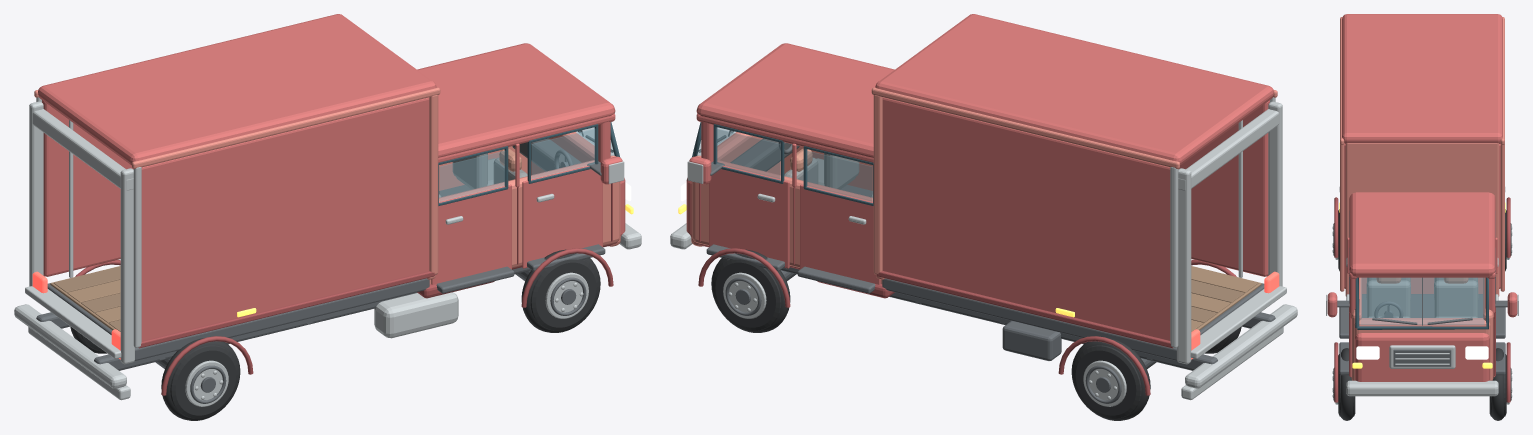
File: truck.fbx
3 renders of one model, left to right at view 1: azimuth 30°, elevation 25°; view 2: azimuth 150°, elevation 25°; view 3: azimuth 270°, elevation 25°, orthographic. The views are drawn at different scales.
Visible parts, largest first — view 1: Cargo_Right_OuterPanel, Cargo_Roof, Cab_Roof, Cargo_Left_OuterPanel, Cab_Right_Front_DoorSurface, Cab_Right_Rear_DoorSurface, Cargo_Floor_Structural, Fuel_Tank, Rear_Right_FramePost, Cab_Right_LowerSideShell, Cargo_R_TopTrim, Rear_Left_FramePost (+27 smaller); view 2: Cargo_Left_OuterPanel, Cargo_Roof, Cab_Roof, Cargo_Right_OuterPanel, Cab_Left_Front_DoorSurface, Cab_Left_Rear_DoorSurface, Cargo_Floor_Structural, Rear_Left_FramePost, Cab_Left_LowerSideShell, Cargo_L_TopTrim, Rear_Right_FramePost, Tire_Rear_Left (+27 smaller); view 3: Cargo_Roof, Cab_Roof, Cargo_Bulkhead_Front, Windshield_TransparentGlass, Cab_FrontNose, Front_Bumper, Cab_FrontLowerShell, Seat_Front_Left_Backrest, Seat_Front_Right_Backrest, Front_Grille_Centre, Windshield_RubberSurround_FRAME, Cab_Interior_Floor (+27 smaller).
Part boxes in pixels (left/top/right/bottom): Cargo_Right_OuterPanel: left=133, top=97, right=429, bottom=340; Cargo_Roof: left=38, top=14, right=436, bottom=165; Cab_Roof: left=417, top=43, right=615, bottom=157; Cargo_Left_OuterPanel: left=42, top=100, right=132, bottom=276; Cab_Right_Front_DoorSurface: left=522, top=165, right=602, bottom=268; Cab_Right_Rear_DoorSurface: left=431, top=184, right=511, bottom=284; Cargo_Floor_Structural: left=47, top=278, right=429, bottom=360; Fuel_Tank: left=374, top=292, right=458, bottom=338; Rear_Right_FramePost: left=120, top=168, right=134, bottom=364; Cab_Right_LowerSideShell: left=429, top=155, right=619, bottom=283; Cargo_R_TopTrim: left=132, top=87, right=440, bottom=168; Rear_Left_FramePost: left=29, top=101, right=43, bottom=286; Cargo_Left_OuterPanel: left=882, top=97, right=1178, bottom=340; Cargo_Roof: left=875, top=14, right=1273, bottom=165; Cab_Roof: left=696, top=43, right=894, bottom=157; Cargo_Right_OuterPanel: left=1179, top=100, right=1269, bottom=276; Cab_Left_Front_DoorSurface: left=709, top=165, right=789, bottom=268; Cab_Left_Rear_DoorSurface: left=800, top=184, right=880, bottom=284; Cargo_Floor_Structural: left=882, top=278, right=1264, bottom=360; Rear_Left_FramePost: left=1177, top=168, right=1191, bottom=364; Cab_Left_LowerSideShell: left=692, top=155, right=882, bottom=283; Cargo_L_TopTrim: left=871, top=87, right=1179, bottom=168; Rear_Right_FramePost: left=1268, top=101, right=1282, bottom=286; Tire_Rear_Left: left=1073, top=345, right=1141, bottom=418; Cargo_Roof: left=1342, top=14, right=1502, bottom=143; Cab_Roof: left=1349, top=192, right=1495, bottom=277; Cargo_Bulkhead_Front: left=1345, top=143, right=1499, bottom=296; Windshield_TransparentGlass: left=1360, top=278, right=1484, bottom=324; Cab_FrontNose: left=1355, top=333, right=1489, bottom=381; Front_Bumper: left=1346, top=380, right=1498, bottom=396; Cab_FrontLowerShell: left=1354, top=318, right=1490, bottom=380; Seat_Front_Left_Backrest: left=1434, top=280, right=1477, bottom=317; Seat_Front_Right_Backrest: left=1367, top=280, right=1410, bottom=317; Front_Grille_Centre: left=1393, top=349, right=1451, bottom=366; Windshield_RubberSurround_FRAME: left=1355, top=277, right=1488, bottom=329; Cab_Interior_Floor: left=1362, top=294, right=1482, bottom=317.
Bounding box in the file's own units: 793 × 400 × 301.
